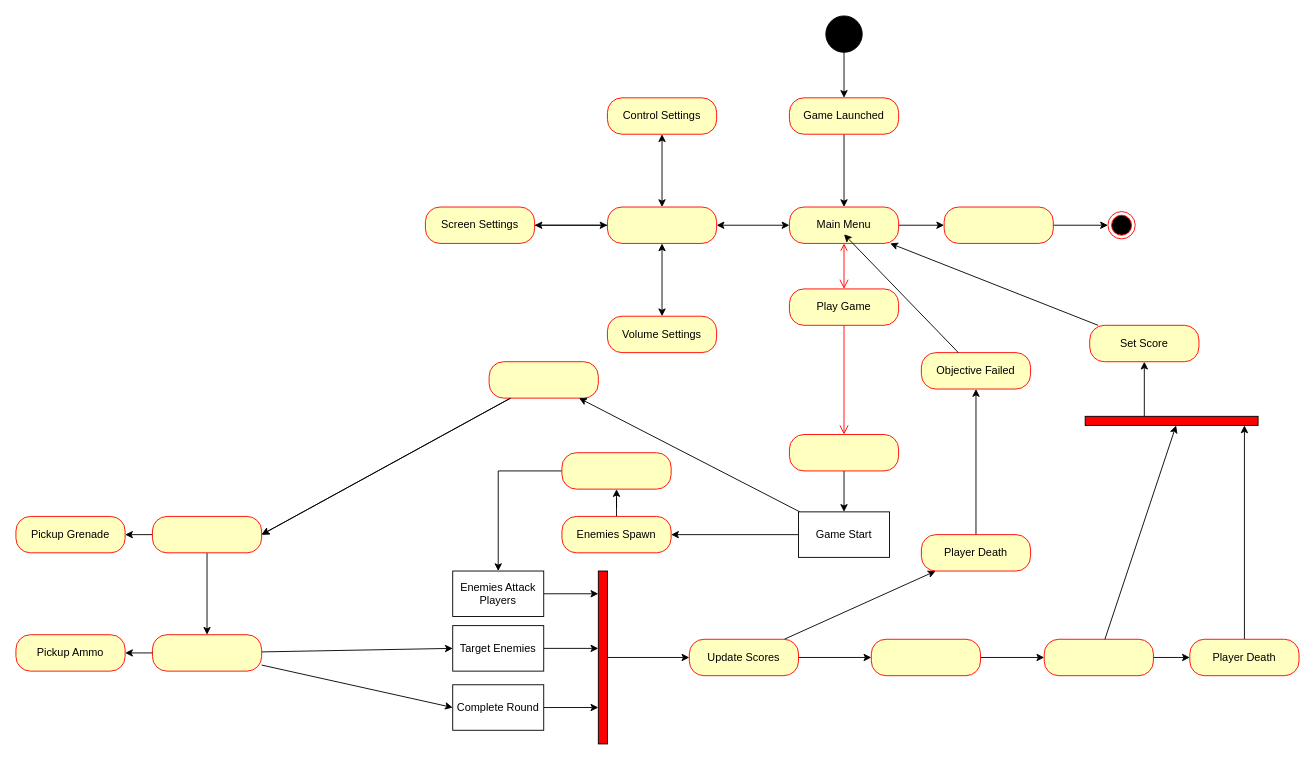
Some shapes in this 1315 by 760 pixel diagram are drawn without their labels. Here are the shapes that lost their labels. From the top down, the centre of each, then its label:
the point at 662,224: Options
the point at 998,224: Quit
the point at 543,379: Player Controller
the point at 616,470: Enemies Roam
the point at 844,452: Select Map
the point at 207,534: Move Character
the point at 207,652: Pickup Weapon
the point at 925,657: Objective Cleared
the point at 1098,657: Unlock Mission
